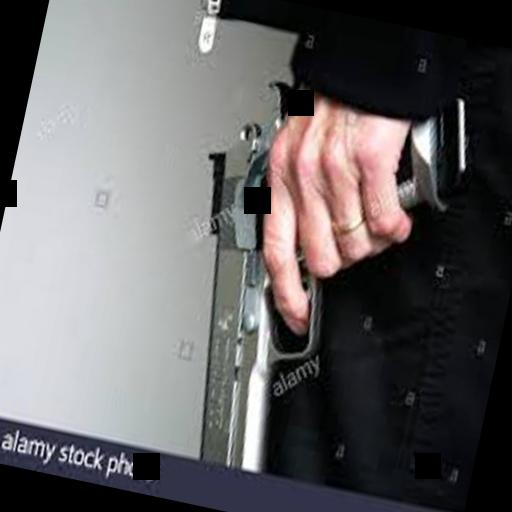Handgun: (152, 44, 486, 496)
